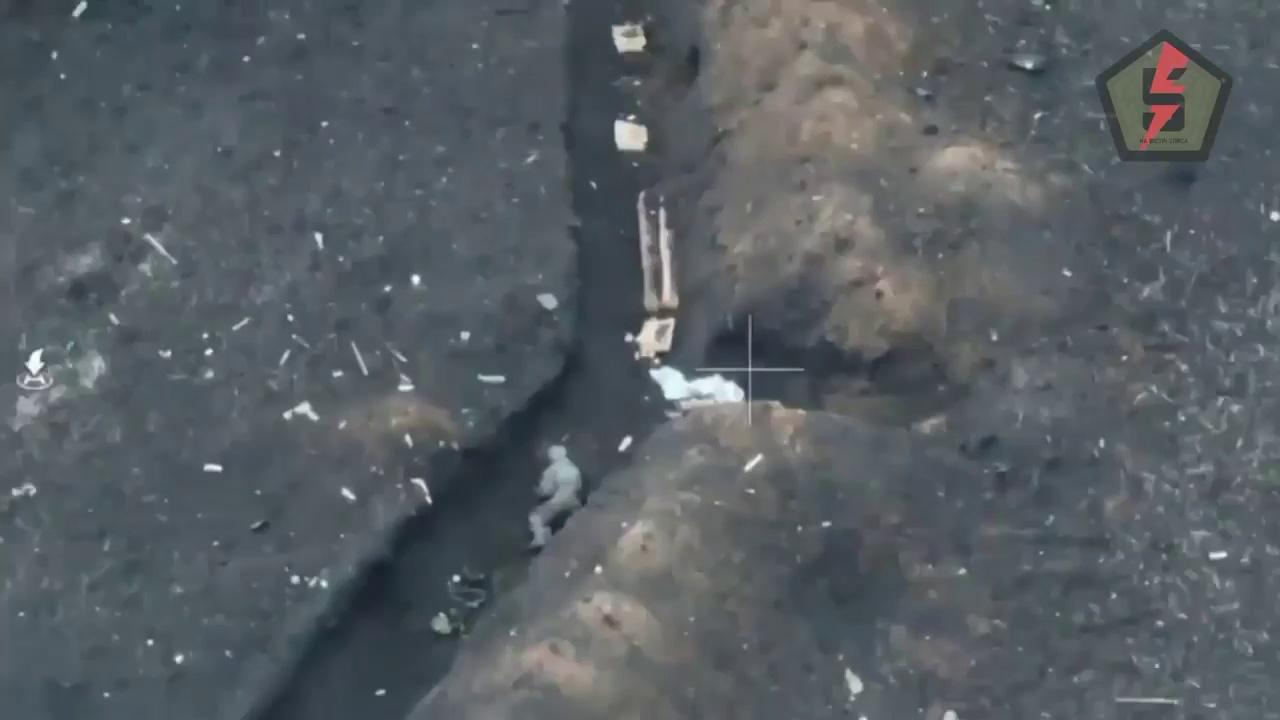person: (529, 439, 586, 552)
trench: (239, 0, 762, 720)
